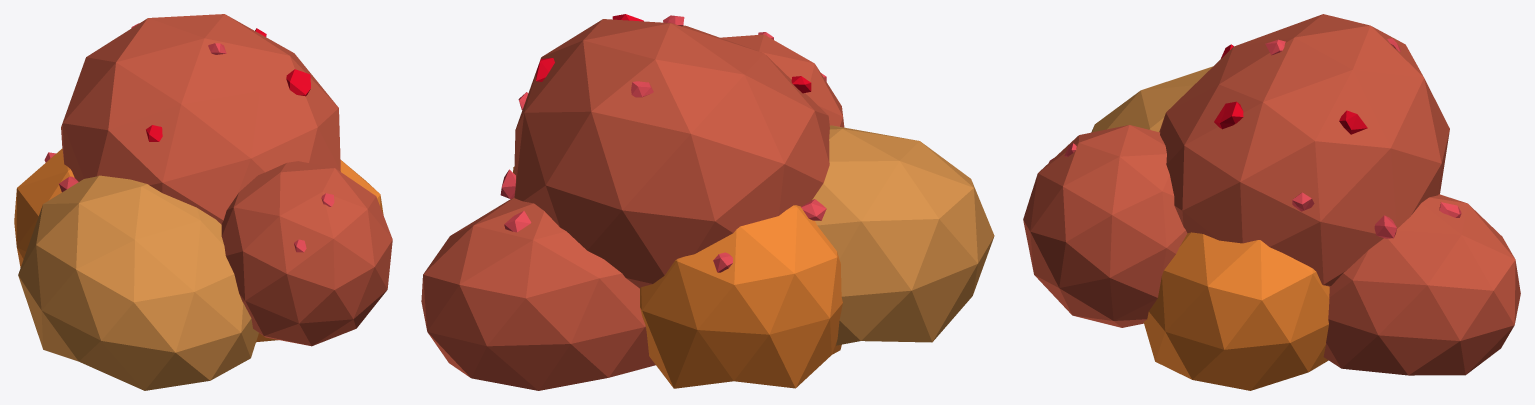
The model's file is klen_b1.fbx.
3 renders of one model, left to right at view 1: azimuth 30°, elevation 25°; view 2: azimuth 150°, elevation 25°; view 3: azimuth 270°, elevation 25°, orthographic. The views are drawn at different scales.
Visible parts, largest first — view 1: Icosphere.007, Icosphere.010, Icosphere.008, Icosphere.012, Icosphere.009, Icosphere.033; view 2: Icosphere.007, Icosphere.011, Icosphere.010, Icosphere.012, Icosphere.008; view 3: Icosphere.007, Icosphere.011, Icosphere.008, Icosphere.009, Icosphere.010, Icosphere.033, Icosphere.034.
Boxes of the visible parts, x1,y1,x2,y2 form: Icosphere.007: (61, 14, 340, 224); Icosphere.010: (18, 175, 258, 390); Icosphere.008: (221, 161, 392, 346); Icosphere.012: (14, 148, 74, 267); Icosphere.009: (256, 159, 383, 342); Icosphere.033: (286, 69, 310, 96); Icosphere.007: (514, 19, 829, 288); Icosphere.011: (421, 197, 655, 390); Icosphere.010: (812, 125, 994, 345); Icosphere.012: (640, 205, 842, 388); Icosphere.008: (720, 34, 844, 127); Icosphere.007: (1159, 14, 1449, 286); Icosphere.011: (1323, 194, 1520, 375); Icosphere.008: (1023, 125, 1187, 327); Icosphere.009: (1143, 232, 1329, 390); Icosphere.010: (1091, 66, 1212, 132); Icosphere.033: (1214, 101, 1243, 129); Icosphere.034: (1339, 110, 1367, 134).
Bounding box in the file's own units: 225 × 158 × 245.
